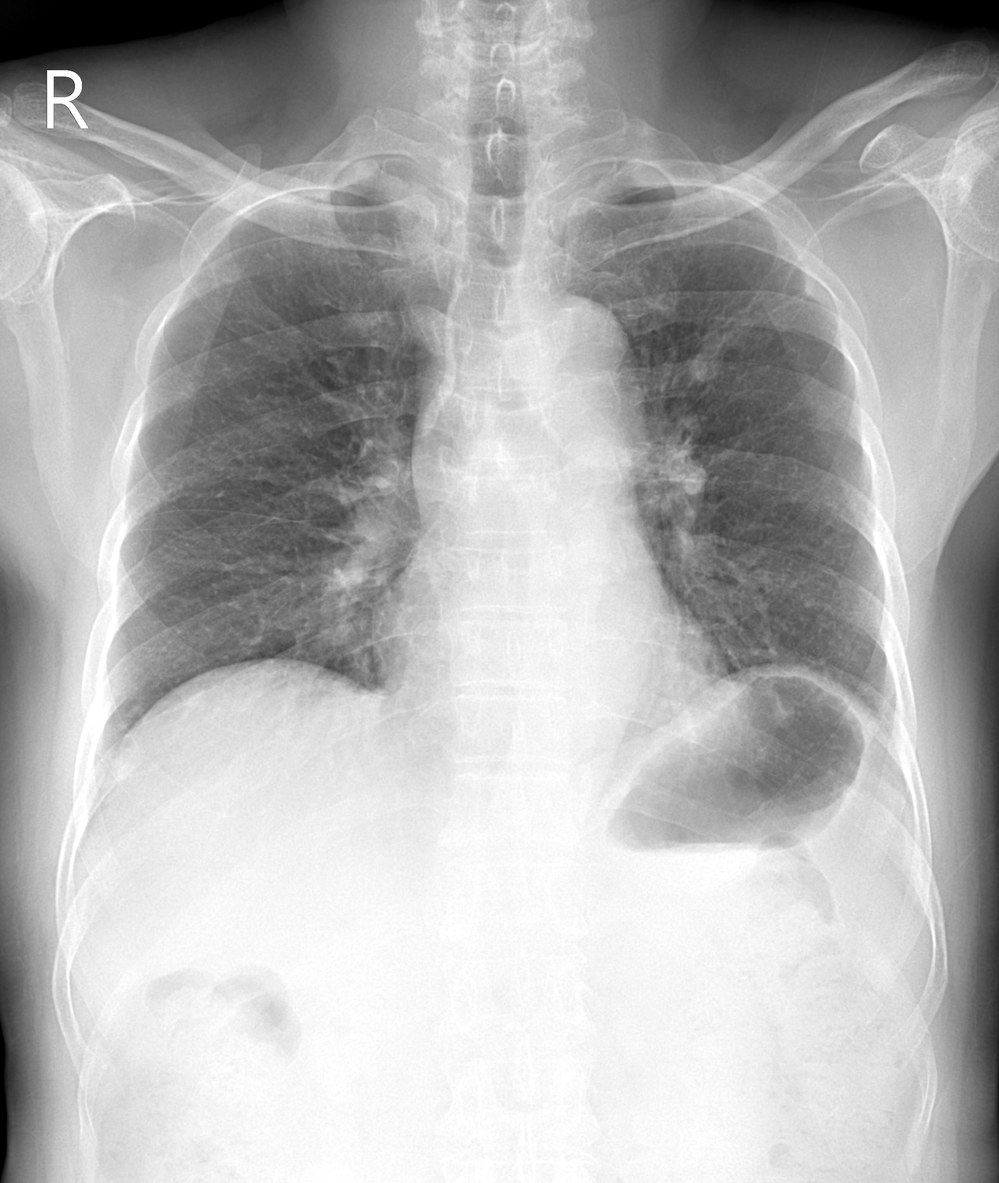Aortic enlargement: (410, 293, 633, 528)
Pleural thickening: (305, 157, 386, 180)
